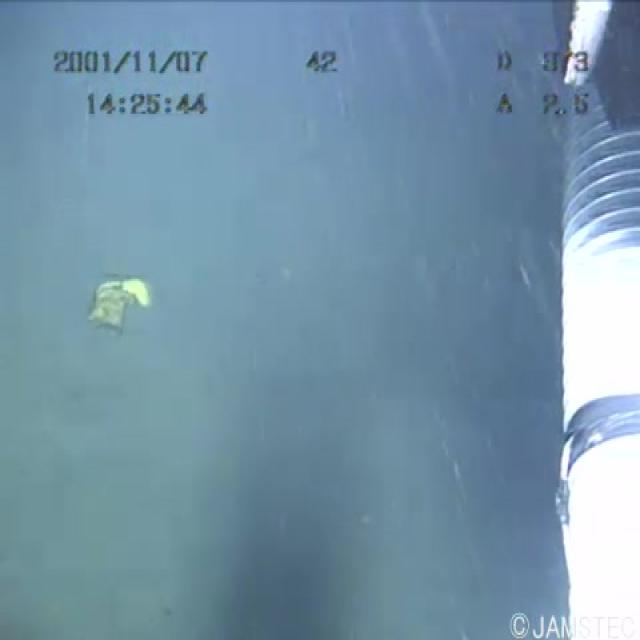plastic: (85, 267, 155, 341)
